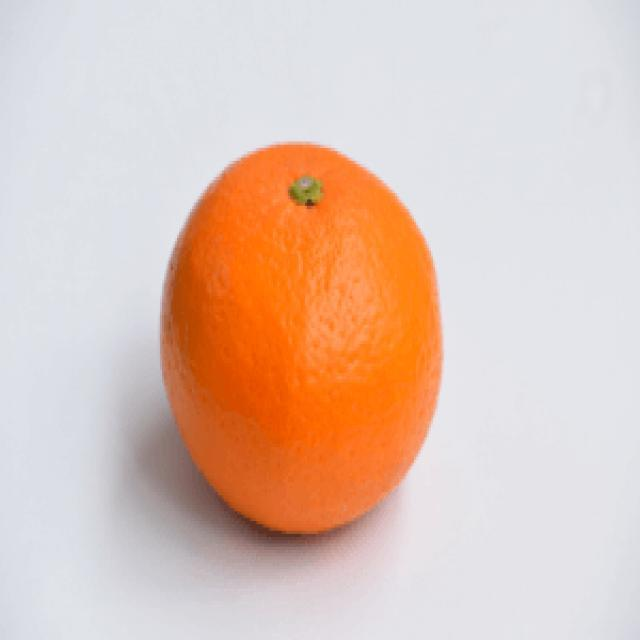Orange: (155, 141, 448, 547)
